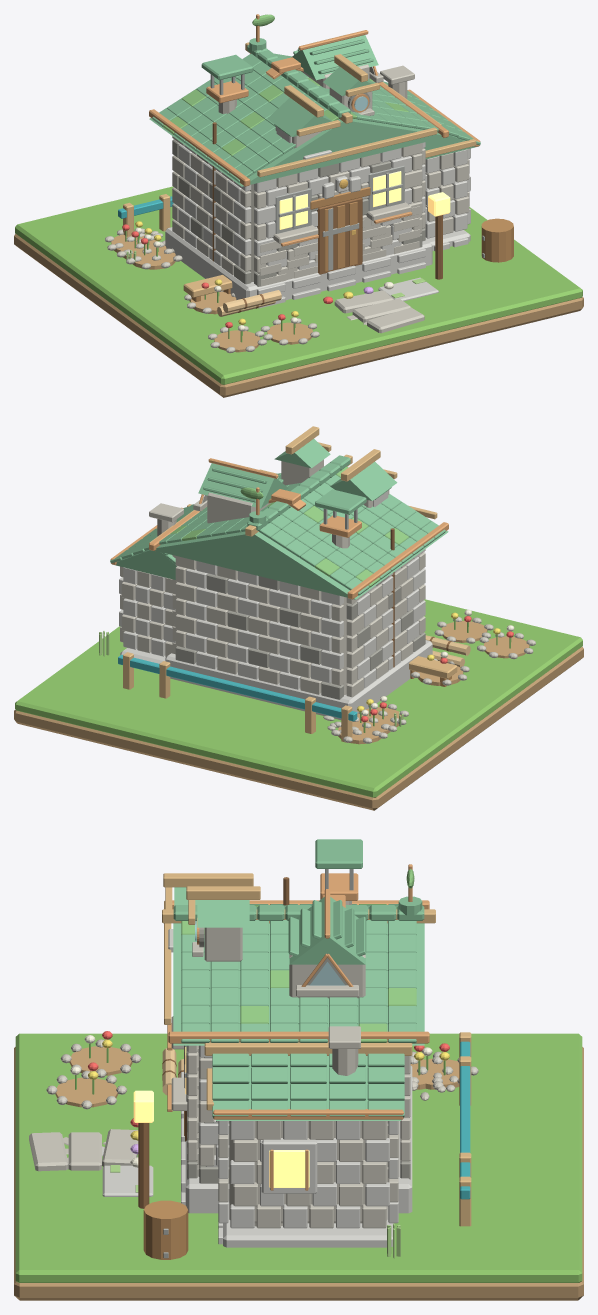
Rendered from stone_house_l03_active.glb.
3 renders of one model, top to bottom at view 1: azimuth 30°, elevation 25°; view 2: azimuth 150°, elevation 25°; view 3: azimuth 270°, elevation 25°, orthographic. The views are drawn at different scales.
Visible parts, largest first — view 1: stone_house_component_pilot_grass_tile.002, stone_house_component_pilot_earth_tile.002, pilot_stone_house_l03_roof_gable_roof, pilot_stone_house_l03_spec_stone_block_medium_medium_foundat, pilot_stone_house_l03_side_dormer_green_gable, pilot_stone_house_l03_stone_door, pilot_stone_house_l03_roof_roof_front_trim, pilot_stone_house_l03_yard_barrel_barrel_body, pilot_stone_house_l03_roof_dormer_gable_roof, pilot_stone_house_l03_roof_eave_-1, stone_house_component_pilot_path_stone_03.002, pilot_stone_house_l03_decor_chimney_crown_cap (+19 smaller); view 2: stone_house_component_pilot_grass_tile.002, stone_house_component_pilot_earth_tile.002, pilot_stone_house_l03_roof_gable_roof, pilot_stone_house_l03_spec_stone_block_medium_medium_foundat, pilot_stone_house_l03_yard_fence_rail, pilot_stone_house_l03_side_dormer_green_gable, pilot_stone_house_l03_roof_dormer_gable_roof, pilot_stone_house_l03_side_dormer_stone_cheek, pilot_stone_house_l03_right_annex_roof_gable_roof, pilot_stone_house_l03_roof_eave_-1, pilot_stone_house_l03_decor_chimney_crown_cap, pilot_stone_house_l03_round_attic_window_little_green_roof_g (+6 smaller); view 3: stone_house_component_pilot_grass_tile.002, stone_house_component_pilot_earth_tile.002, pilot_stone_house_l03_right_annex_foundation_stone_block_low, pilot_stone_house_l03_roof_gable_roof, pilot_stone_house_l03_yard_barrel_barrel_body, pilot_stone_house_l03_spec_stone_block_medium_medium_foundat, pilot_stone_house_l03_side_dormer_green_gable, pilot_stone_house_l03_right_annex_roof_roof_ridge, pilot_stone_house_l03_roof_eave_+1, pilot_stone_house_l03_right_annex_roof_copper_gutter, pilot_stone_house_l03_right_annex_side_window_stone_frame, pilot_stone_house_l03_round_attic_window_little_green_roof_g (+33 smaller).
Boxes of the visible parts, left/top/right/bottom form: stone_house_component_pilot_grass_tile.002: left=15, top=186, right=582, bottom=384; stone_house_component_pilot_earth_tile.002: left=14, top=233, right=583, bottom=397; pilot_stone_house_l03_roof_gable_roof: left=149, top=54, right=442, bottom=186; pilot_stone_house_l03_spec_stone_block_medium_medium_foundat: left=165, top=227, right=432, bottom=300; pilot_stone_house_l03_side_dormer_green_gable: left=291, top=35, right=378, bottom=80; pilot_stone_house_l03_stone_door: left=317, top=197, right=362, bottom=274; pilot_stone_house_l03_roof_roof_front_trim: left=257, top=127, right=437, bottom=177; pilot_stone_house_l03_yard_barrel_barrel_body: left=481, top=218, right=513, bottom=262; pilot_stone_house_l03_roof_dormer_gable_roof: left=267, top=97, right=332, bottom=136; pilot_stone_house_l03_roof_eave_-1: left=149, top=109, right=250, bottom=186; stone_house_component_pilot_path_stone_03.002: left=367, top=307, right=424, bottom=333; pilot_stone_house_l03_decor_chimney_crown_cap: left=201, top=54, right=253, bottom=80; stone_house_component_pilot_grass_tile.002: left=15, top=599, right=582, bottom=797; stone_house_component_pilot_earth_tile.002: left=14, top=646, right=583, bottom=810; pilot_stone_house_l03_roof_gable_roof: left=155, top=467, right=448, bottom=599; pilot_stone_house_l03_spec_stone_block_medium_medium_foundat: left=165, top=640, right=432, bottom=719; pilot_stone_house_l03_yard_fence_rail: left=118, top=654, right=357, bottom=721; pilot_stone_house_l03_side_dormer_green_gable: left=198, top=463, right=288, bottom=508; pilot_stone_house_l03_roof_dormer_gable_roof: left=330, top=462, right=397, bottom=500; pilot_stone_house_l03_side_dormer_stone_cheek: left=207, top=492, right=270, bottom=523; pilot_stone_house_l03_right_annex_roof_gable_roof: left=112, top=549, right=176, bottom=579; pilot_stone_house_l03_roof_eave_-1: left=347, top=522, right=448, bottom=599; pilot_stone_house_l03_decor_chimney_crown_cap: left=315, top=489, right=366, bottom=514; pilot_stone_house_l03_round_attic_window_little_green_roof_g: left=274, top=439, right=330, bottom=468; stone_house_component_pilot_grass_tile.002: left=15, top=1033, right=582, bottom=1282; stone_house_component_pilot_earth_tile.002: left=14, top=1047, right=583, bottom=1300; pilot_stone_house_l03_right_annex_foundation_stone_block_low: left=223, top=1203, right=393, bottom=1247; pilot_stone_house_l03_roof_gable_roof: left=173, top=923, right=424, bottom=1045; pilot_stone_house_l03_yard_barrel_barrel_body: left=143, top=1200, right=188, bottom=1259; pilot_stone_house_l03_spec_stone_block_medium_medium_foundat: left=185, top=1066, right=412, bottom=1213; pilot_stone_house_l03_side_dormer_green_gable: left=289, top=897, right=365, bottom=964; pilot_stone_house_l03_right_annex_roof_roof_ridge: left=204, top=1042, right=412, bottom=1055; pilot_stone_house_l03_roof_eave_+1: left=168, top=1031, right=429, bottom=1043; pilot_stone_house_l03_right_annex_roof_copper_gutter: left=213, top=1109, right=403, bottom=1119; pilot_stone_house_l03_right_annex_side_window_stone_frame: left=261, top=1139, right=317, bottom=1193; pilot_stone_house_l03_round_attic_window_little_green_roof_g: left=197, top=900, right=249, bottom=927.
Size of the model in its own units: 3.6 by 2.22 by 3.6.
